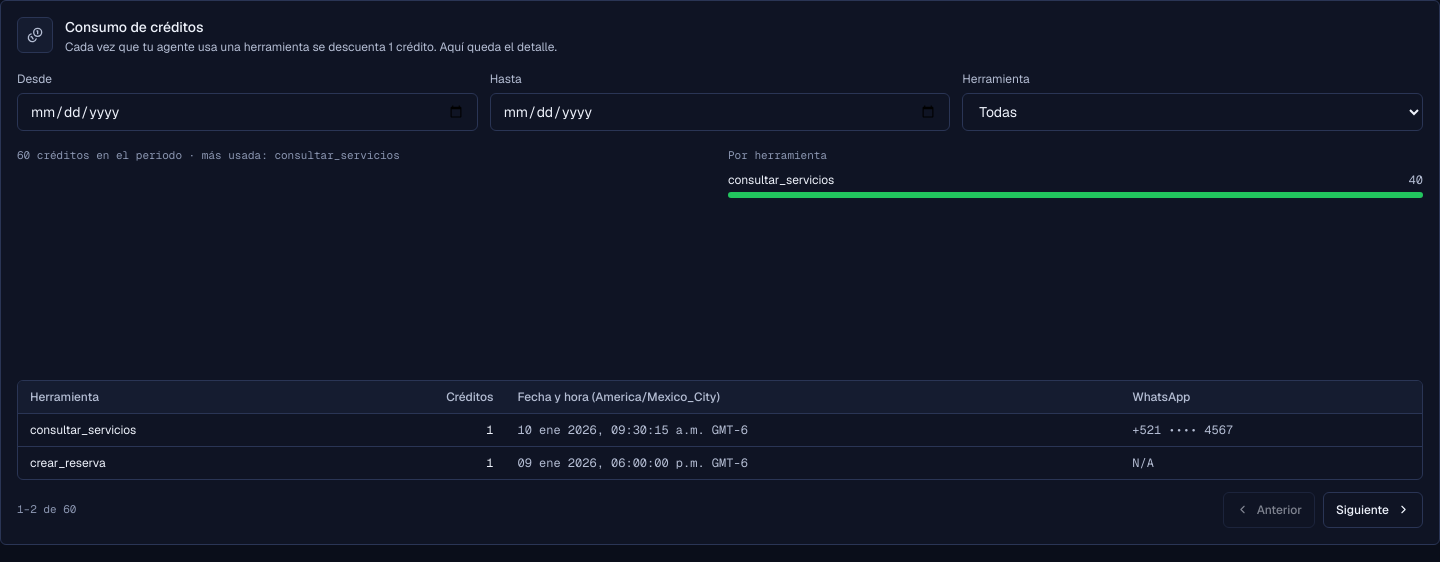
Test: con el rango invertido no consulta al backend
In the date field labelled "Desde": (247, 112) [17,93,478,131], type "2026-02-10"
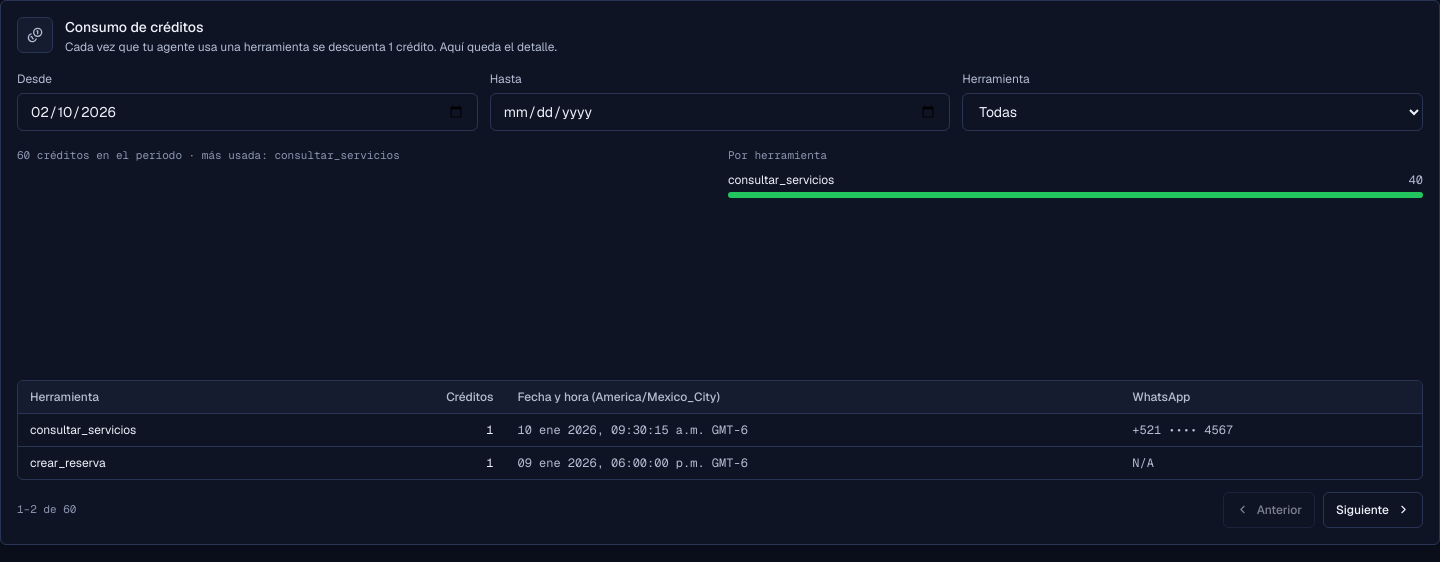
In the date field labelled "Hasta": (720, 112) [490,93,950,131], type "2026-02-01"
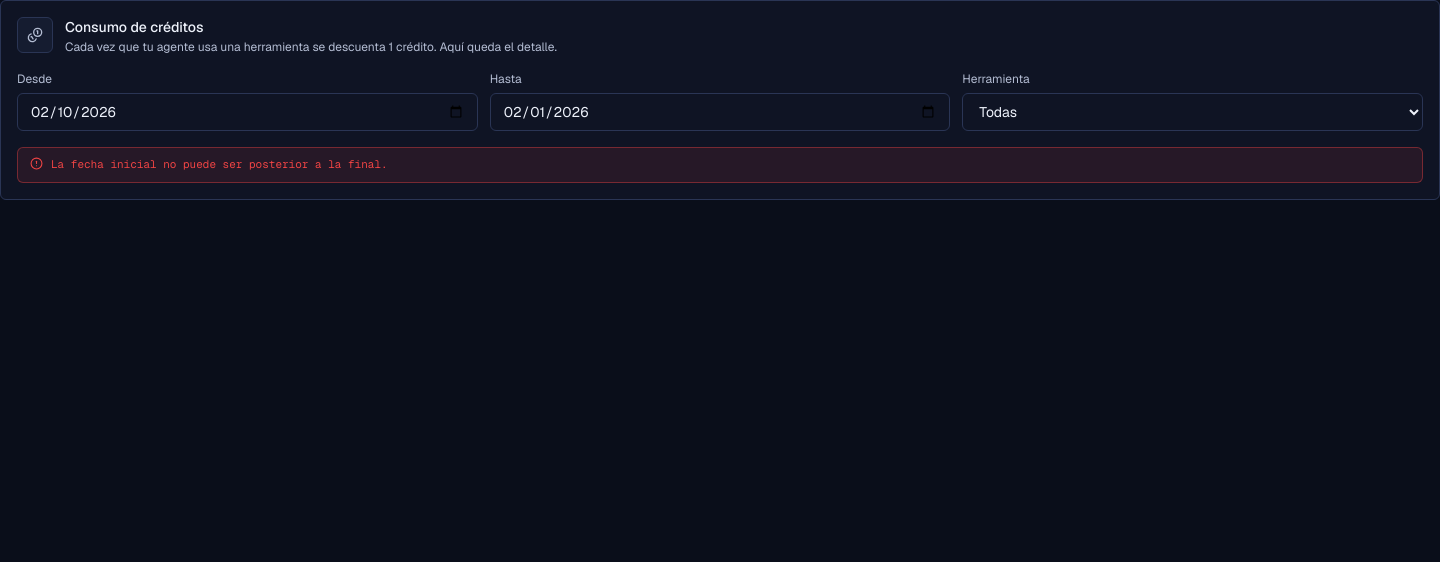
Expected: the text "La fecha inicial no puede ser posterior a la final." is shown, [51,157,388,171]
